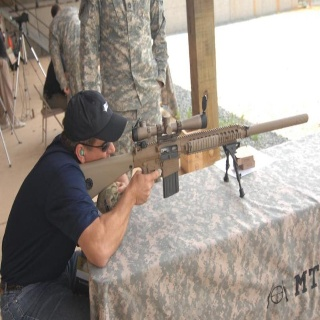rifle: (74, 93, 310, 202)
